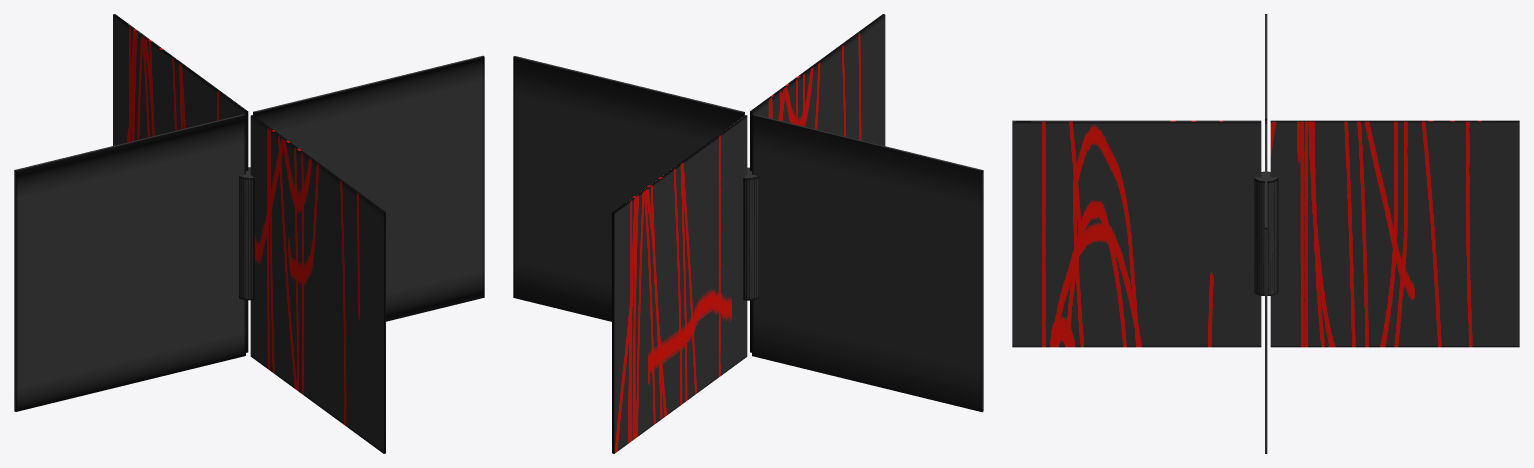
File: fusya_old.fbx
3 renders of one model, left to right at view 1: azimuth 30°, elevation 25°; view 2: azimuth 150°, elevation 25°; view 3: azimuth 270°, elevation 25°, orthographic. The views are drawn at different scales.
Visible parts, largest first — view 1: Cube.004; view 2: Cube.004; view 3: Cube.004.
Part boxes in pixels (<box>): Cube.004: <box>14,14,484,453</box>; Cube.004: <box>513,14,983,453</box>; Cube.004: <box>1012,14,1519,453</box>.
Size of the model in its own units: 407 by 200 by 407.
1 material, 1 textured.
